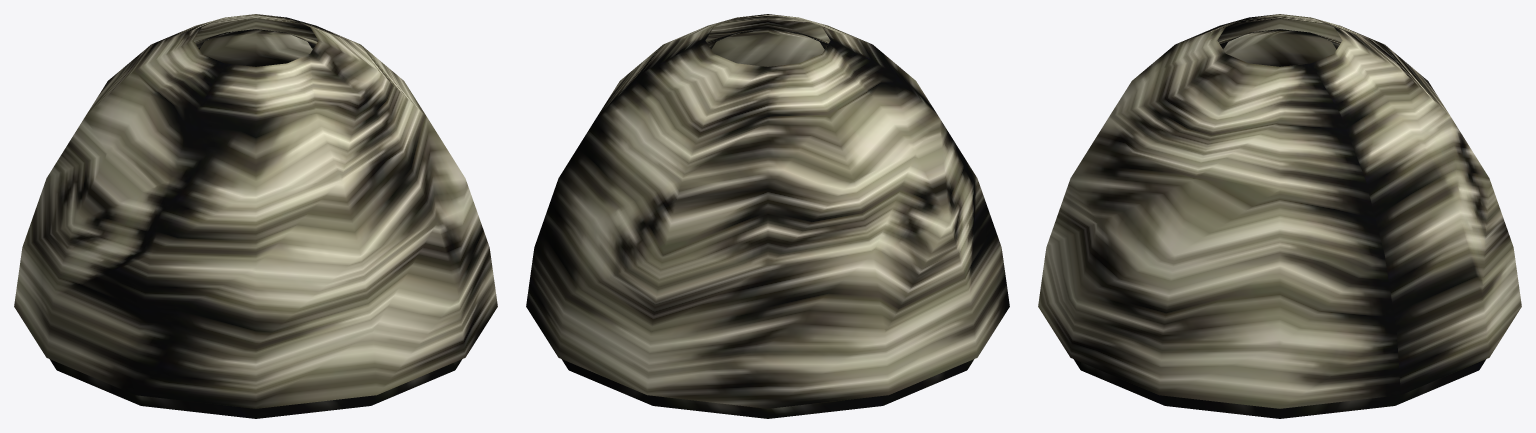
Rendered from raydome.fbx.
The picture shows the model from 3 angles, left to right: view 1: azimuth 30°, elevation 25°; view 2: azimuth 150°, elevation 25°; view 3: azimuth 270°, elevation 25°; orthographic projection.
Parts seen in each view (by area): view 1: outer, inner; view 2: outer, inner; view 3: outer, inner.
Boxes of the visible parts, x1=… form: outer: x1=14, y1=14, x2=497, y2=408; inner: x1=50, y1=29, x2=461, y2=418; outer: x1=526, y1=14, x2=1009, y2=408; inner: x1=562, y1=29, x2=973, y2=418; outer: x1=1038, y1=14, x2=1521, y2=408; inner: x1=1074, y1=29, x2=1485, y2=418.
Bounding box in the file's own units: 2000 × 1283 × 2000.
Materials: 1 (1 with a texture image).
